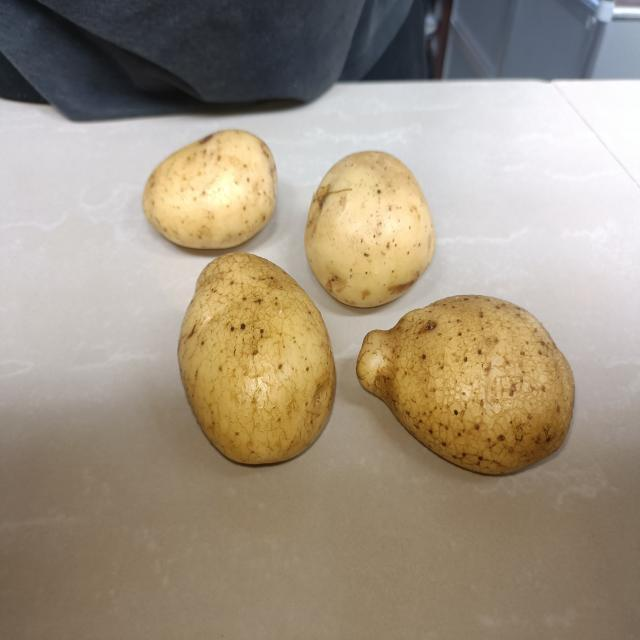potato: (348, 291, 579, 479), (175, 245, 339, 476), (301, 146, 438, 316), (139, 124, 280, 254)
